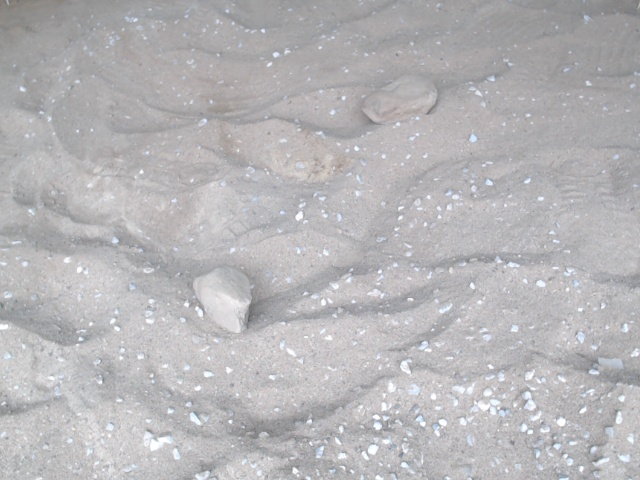rock: (186, 259, 258, 339), (356, 68, 444, 131)
